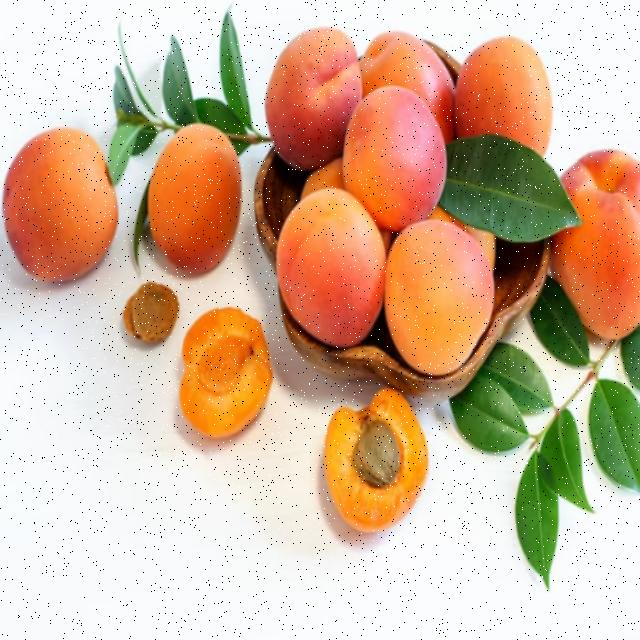cekirdek: (125, 285, 177, 350), (360, 429, 402, 479)
kayisi: (11, 113, 110, 274), (563, 154, 640, 319), (395, 232, 492, 359), (299, 173, 373, 331), (339, 94, 438, 212), (468, 37, 554, 143), (198, 306, 256, 456), (372, 29, 455, 120), (283, 39, 352, 142), (168, 144, 240, 241)
yaprak: (457, 132, 570, 263), (458, 360, 514, 462), (99, 69, 149, 171), (591, 376, 640, 477), (159, 44, 201, 156), (217, 21, 254, 140), (540, 295, 594, 366), (536, 459, 563, 594), (553, 417, 588, 502), (499, 351, 554, 404)
